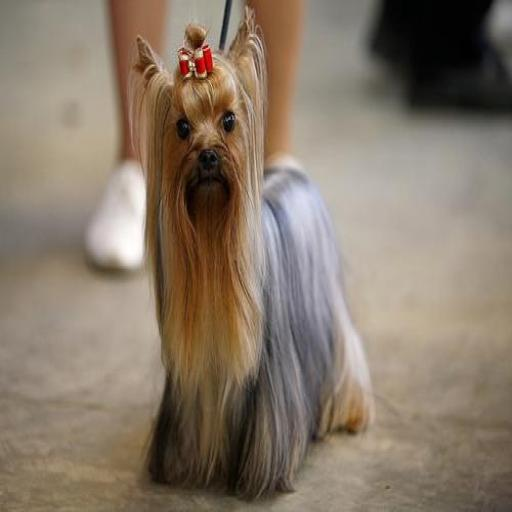dog_face: (140, 28, 268, 224)
